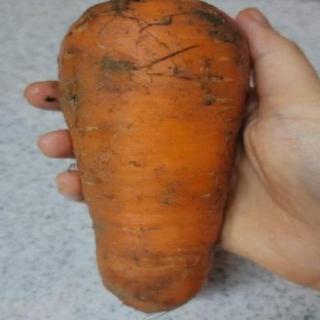carrot: (51, 1, 261, 314)
